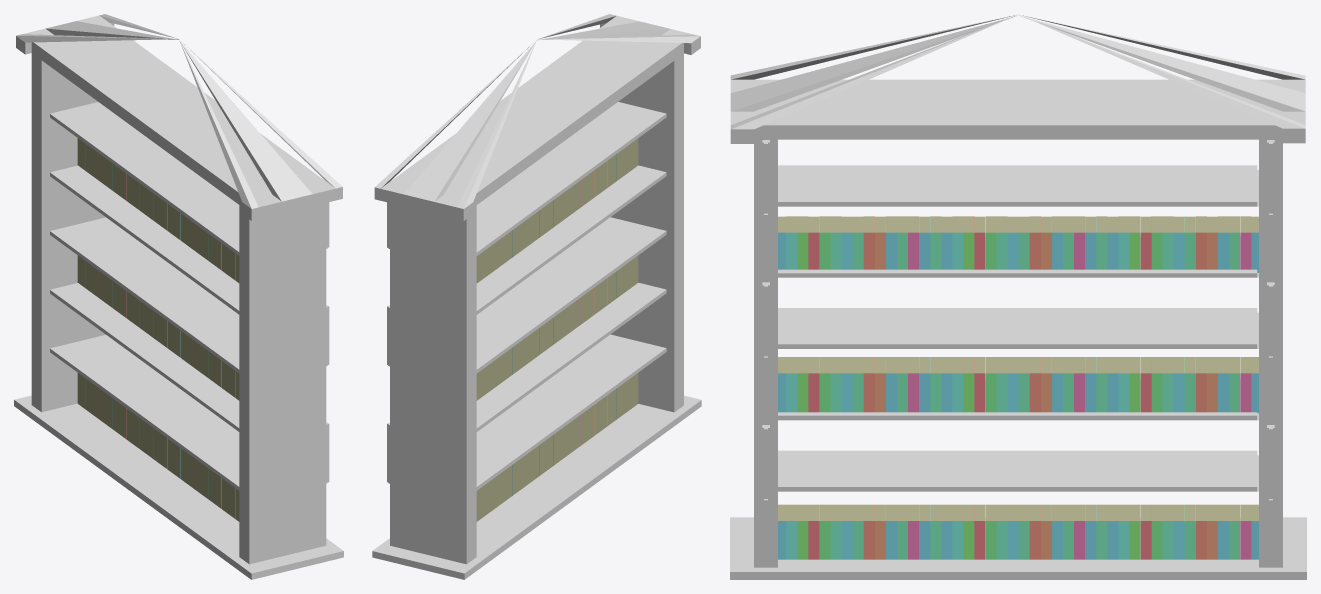
File: 2shelves .fbx
The picture shows the model from 3 angles, left to right: view 1: azimuth 30°, elevation 25°; view 2: azimuth 150°, elevation 25°; view 3: azimuth 270°, elevation 25°; orthographic projection. The views are drawn at different scales.
Parts seen in each view (by area): view 1: Cube.001, Book0.011; view 2: Cube.001, Book0.011; view 3: Cube.001, Book0.011.
Part boxes in pixels (x1=…): Cube.001: x1=14, y1=14, x2=343, y2=579; Book0.011: x1=77, y1=138, x2=239, y2=521; Cube.001: x1=372, y1=14, x2=701, y2=579; Book0.011: x1=476, y1=138, x2=638, y2=521; Cube.001: x1=730, y1=14, x2=1306, y2=579; Book0.011: x1=778, y1=216, x2=1258, y2=559.
Size of the model in its own units: 193 by 886 by 861.
